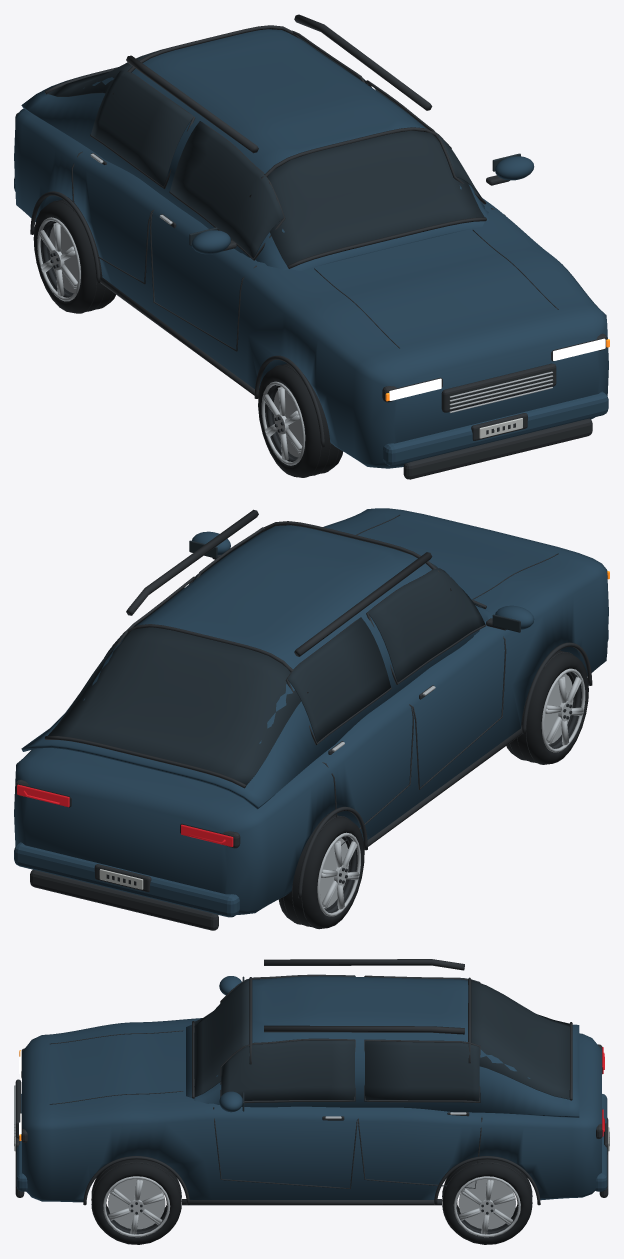
File: suv.glb
3 renders of one model, top to bottom at view 1: azimuth 30°, elevation 25°; view 2: azimuth 150°, elevation 25°; view 3: azimuth 270°, elevation 25°, orthographic. The views are drawn at different scales.
Parts seen in each view (by area): view 1: SM_suv_body, SM_suv_wheel_front_left, SM_suv_wheel_rear_left; view 2: SM_suv_body, SM_suv_wheel_rear_left, SM_suv_wheel_front_left; view 3: SM_suv_body, SM_suv_wheel_rear_right, SM_suv_wheel_front_right.
Part boxes in pixels (x1,y1,x2,y2): SM_suv_body: (14,14,609,479); SM_suv_wheel_front_left: (258,363,343,477); SM_suv_wheel_rear_left: (33,198,115,313); SM_suv_body: (14,508,609,930); SM_suv_wheel_rear_left: (278,813,364,929); SM_suv_wheel_front_left: (506,650,588,764); SM_suv_body: (14,959,609,1205); SM_suv_wheel_rear_right: (442,1159,532,1244); SM_suv_wheel_front_right: (91,1159,181,1244).
Size of the model in its own units: 2.43 by 1.76 by 4.72.
